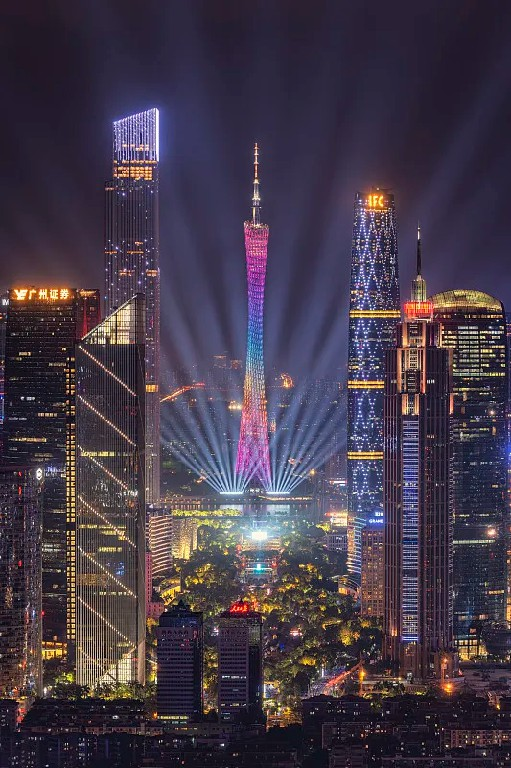Canton: (233, 144, 273, 493)
